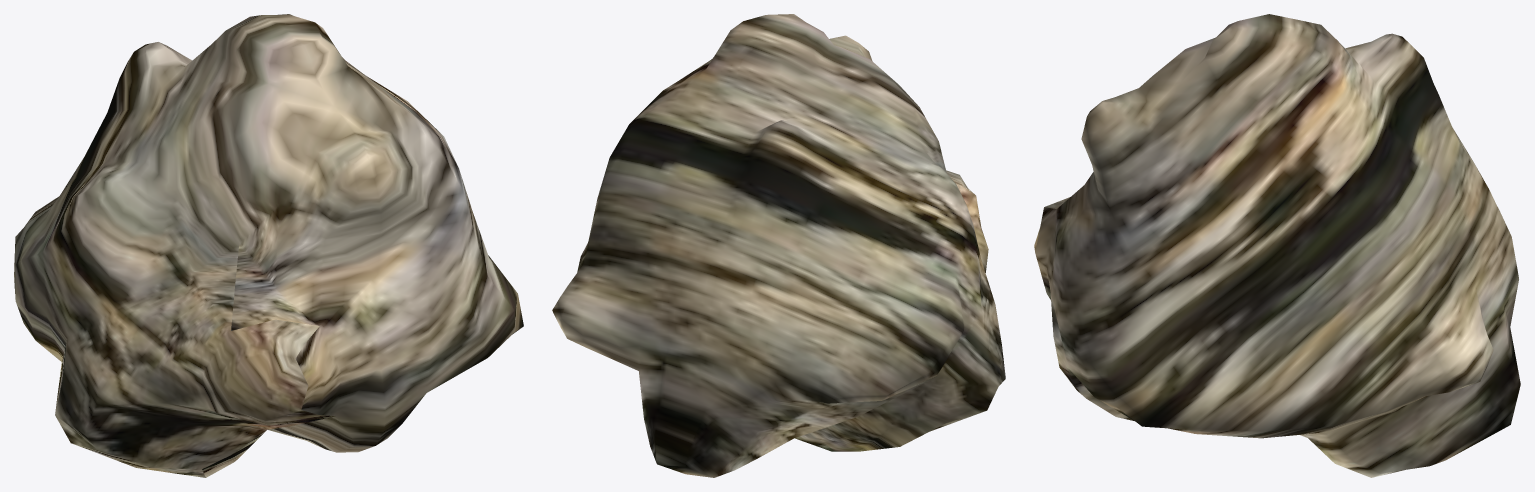
The model's file is RocaBlender.fbx.
3 views of the same model, side by side, from view 1: azimuth 30°, elevation 25°; view 2: azimuth 150°, elevation 25°; view 3: azimuth 270°, elevation 25° (orthographic). The views are drawn at different scales.
Parts seen in each view (by area): view 1: Cube; view 2: Cube; view 3: Cube.
Boxes of the visible parts, box(x1,y1,x2,y2) form: Cube: box(14, 14, 523, 477); Cube: box(552, 14, 1005, 477); Cube: box(1034, 14, 1520, 477).
Size of the model in its own units: 7.22 by 7.2 by 7.1.
